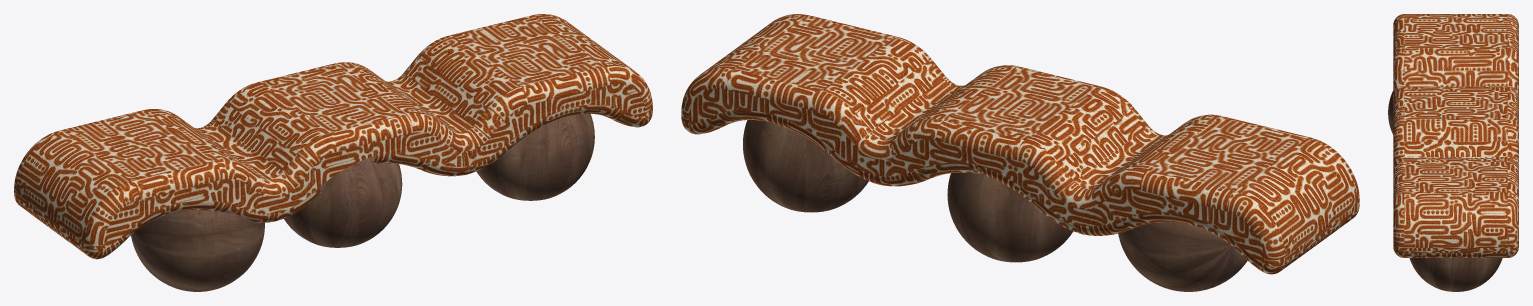
The model's file is SPHERES BENCH.glb.
3 renders of one model, left to right at view 1: azimuth 30°, elevation 25°; view 2: azimuth 150°, elevation 25°; view 3: azimuth 270°, elevation 25°, orthographic. The views are drawn at different scales.
Size of the model in its own units: 1.78 by 0.4283 by 0.4686.
2 materials, 2 textured.
